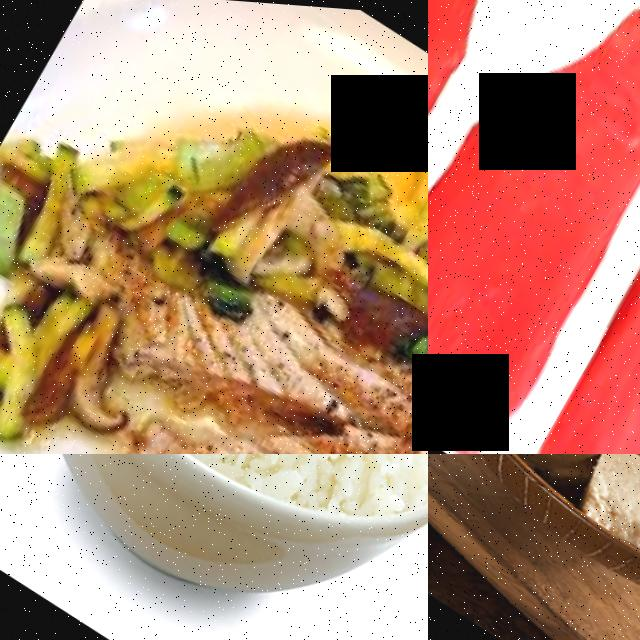tofu: (563, 454, 640, 603)
tuna: (501, 0, 640, 454)
white rice: (31, 454, 428, 570)
